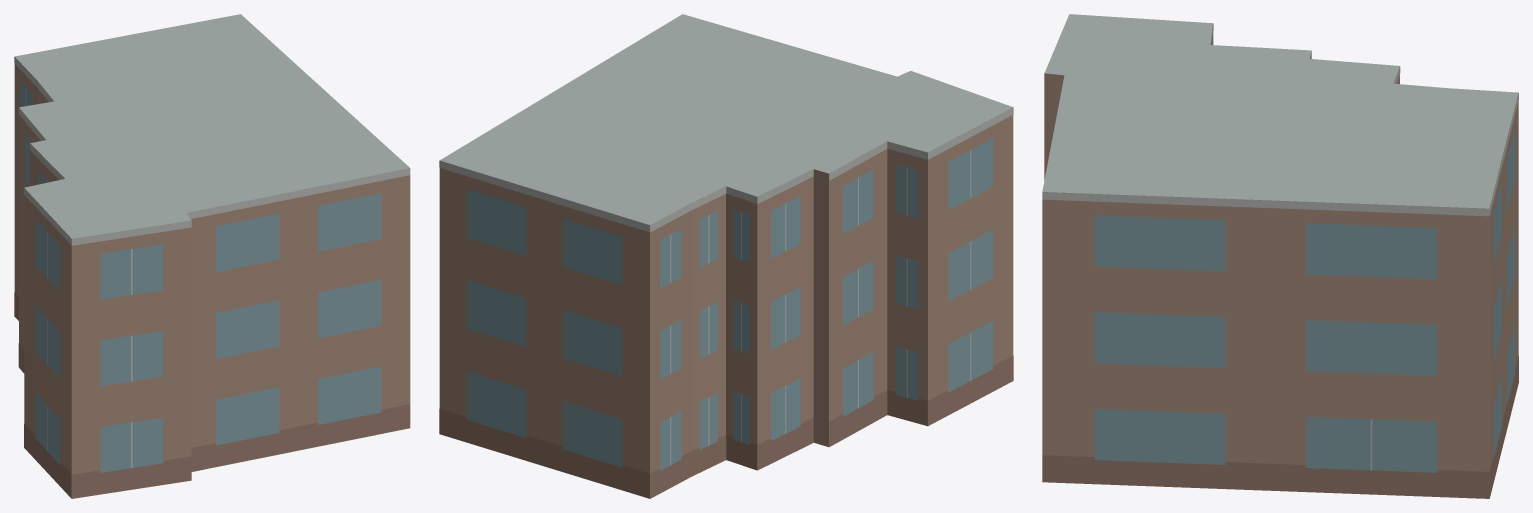
Rendered from survey-upis-32592421.glb.
3 views of the same model, side by side, from view 1: azimuth 30°, elevation 25°; view 2: azimuth 150°, elevation 25°; view 3: azimuth 270°, elevation 25° (orthographic). The views are drawn at different scales.
Parts seen in each view (by area): view 1: survey-upis-32592421.tmp; view 2: survey-upis-32592421.tmp; view 3: survey-upis-32592421.tmp.
Boxes of the visible parts, bbox=[...] form: survey-upis-32592421.tmp: bbox=[14, 14, 410, 498]; survey-upis-32592421.tmp: bbox=[439, 14, 1013, 498]; survey-upis-32592421.tmp: bbox=[1042, 14, 1518, 498].
Size of the model in its own units: 13.17 by 9.15 by 13.62.
